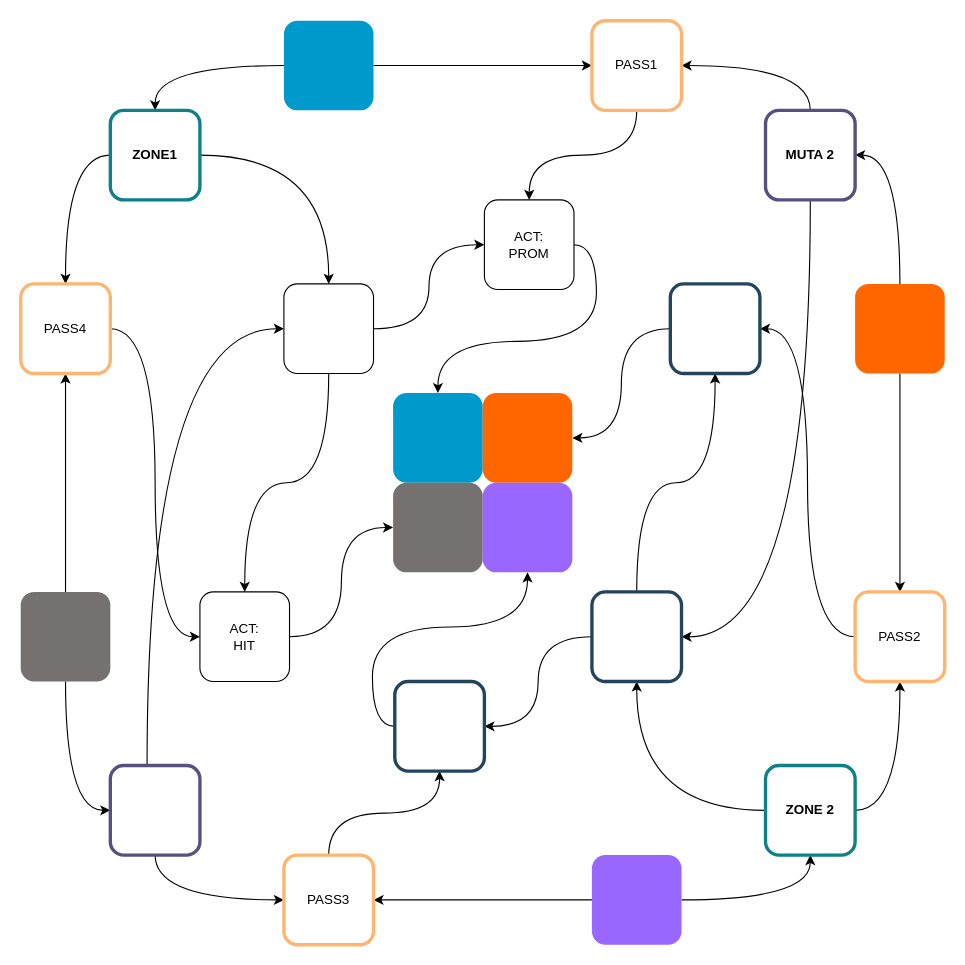
Some shapes in this 965 by 965 pixel diagram are drawn without their labels. Each missing label, with the centre of its shape:
"ACT: MOV" goes at (x=328, y=328).
"MUTA1" goes at (x=154, y=809).
"PERM 2" goes at (x=714, y=328).
"PERM 3" goes at (x=439, y=725).
"PERM1" goes at (x=636, y=636).
